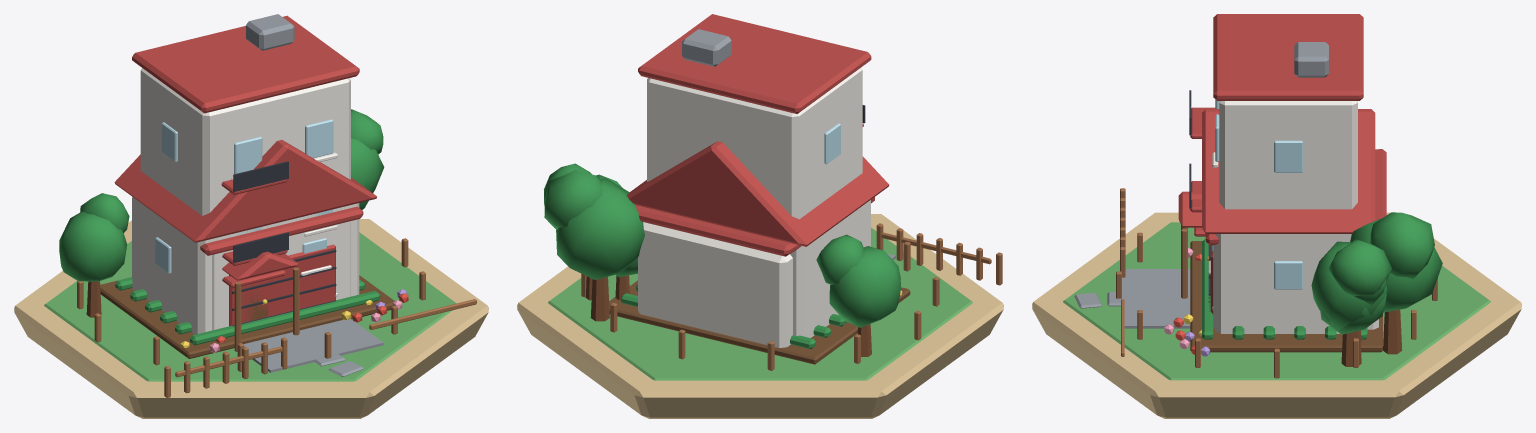
The model's file is houses-kit.glb.
3 renders of one model, left to right at view 1: azimuth 30°, elevation 25°; view 2: azimuth 150°, elevation 25°; view 3: azimuth 270°, elevation 25°, orthographic. The views are drawn at different scales.
Visible parts, largest first — view 1: lot, property-apartment, property-house, property-garage, property-land; view 2: lot, property-apartment, property-garage, property-house, property-land, property-other; view 3: lot, property-apartment, property-house, property-land, property-garage.
Part boxes in pixels (x1,y1,x2,y2): lot: (14, 219, 488, 418); property-apartment: (132, 14, 408, 309); property-house: (114, 109, 476, 397); property-garage: (59, 193, 383, 372); property-land: (77, 238, 425, 371); lot: (517, 214, 1003, 418); property-apartment: (585, 14, 871, 300); property-garage: (636, 197, 900, 356); property-house: (544, 141, 1002, 337); property-land: (544, 170, 939, 370); property-other: (615, 258, 902, 300); lot: (1032, 212, 1521, 418); property-apartment: (1179, 14, 1386, 365); property-house: (1120, 109, 1391, 366); property-land: (1116, 212, 1442, 378); property-garage: (1121, 149, 1386, 329).
Bounding box in the file's own units: 2.23 × 1.75 × 2.54.
